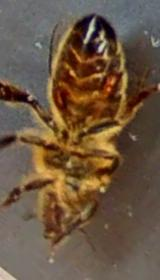varroa_mite: (44, 76, 74, 111), (100, 60, 120, 109)
